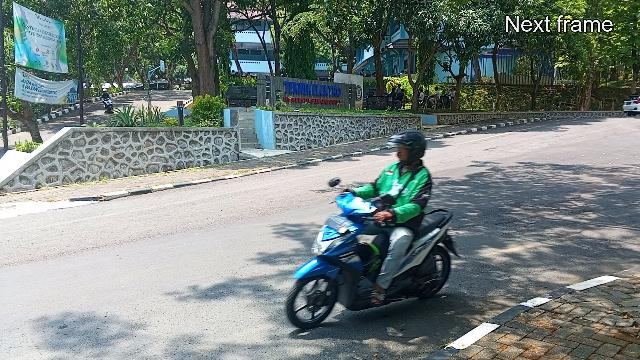helm: (388, 131, 429, 169)
motor: (287, 177, 465, 331)
